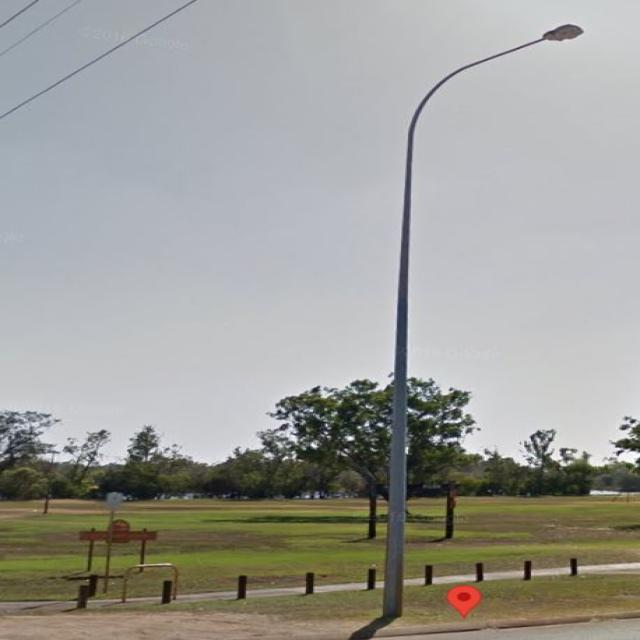steel-pole: (382, 126, 415, 618)
streetlight: (407, 23, 582, 134)
